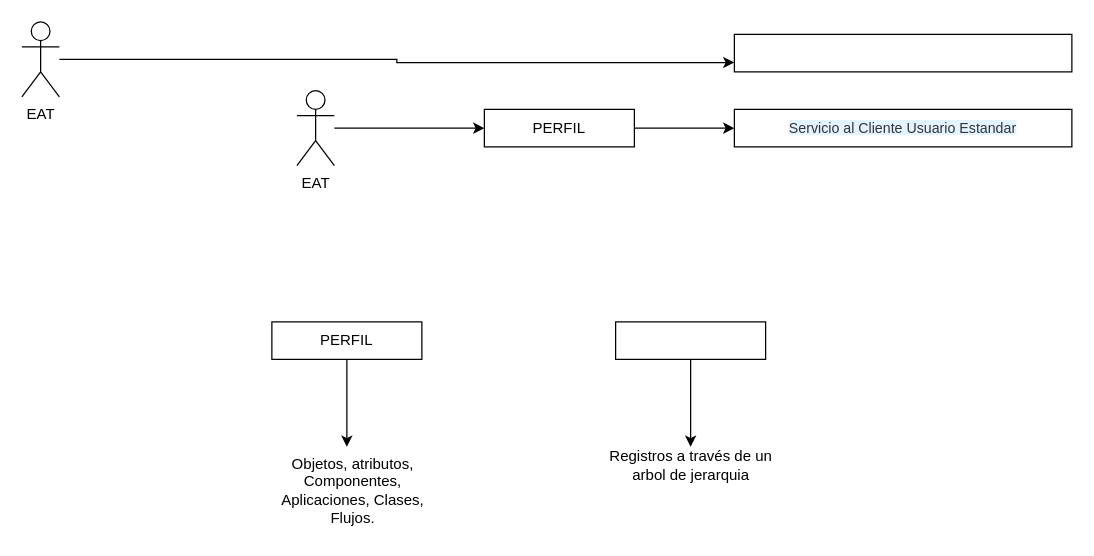
The diagram is 1094 pixels wide and 556 high, and some of its shapes have lost their labels. The shapes that lost their labels are listed below. From the top down, each one's box as (x1, y1, x2, y2) in pixels, then its label:
(733, 33, 1072, 72): Usuario Estandar Banco Estado
(614, 321, 766, 359): ROL
